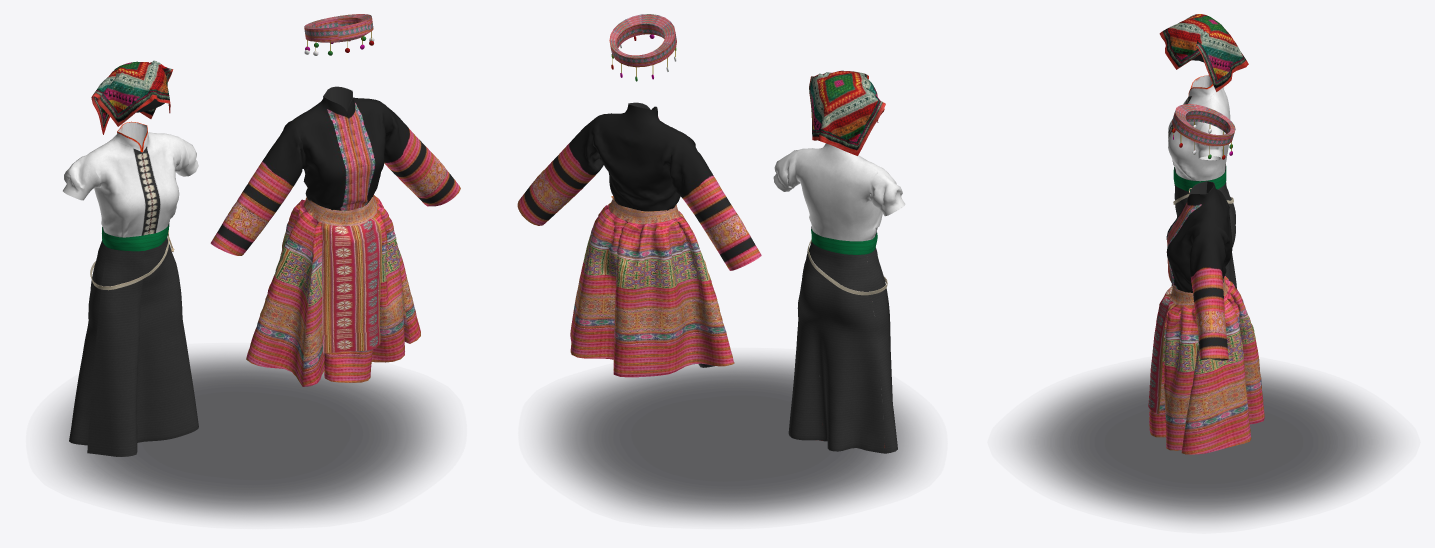
File: obj_trangphuc.glb
The picture shows the model from 3 angles, left to right: view 1: azimuth 30°, elevation 25°; view 2: azimuth 150°, elevation 25°; view 3: azimuth 270°, elevation 25°; orthographic projection. The views are drawn at different scales.
Visible parts, largest first — view 1: trangphuc_meo, plane_shadow, trangphuc_thai; view 2: plane_shadow, trangphuc_meo, trangphuc_thai; view 3: plane_shadow, trangphuc_meo, trangphuc_thai.
Boxes of the visible parts, bbox=[...] form: trangphuc_meo: bbox=[210, 14, 460, 386]; plane_shadow: bbox=[47, 352, 445, 519]; trangphuc_thai: bbox=[63, 60, 198, 456]; plane_shadow: bbox=[539, 356, 926, 520]; trangphuc_meo: bbox=[517, 14, 761, 377]; trangphuc_thai: bbox=[773, 70, 905, 453]; plane_shadow: bbox=[1011, 366, 1396, 523]; trangphuc_meo: bbox=[1148, 104, 1264, 454]; trangphuc_thai: bbox=[1159, 14, 1248, 288].
Bounding box in the file's own units: 269 × 247 × 260.
3 materials, 3 textured.
